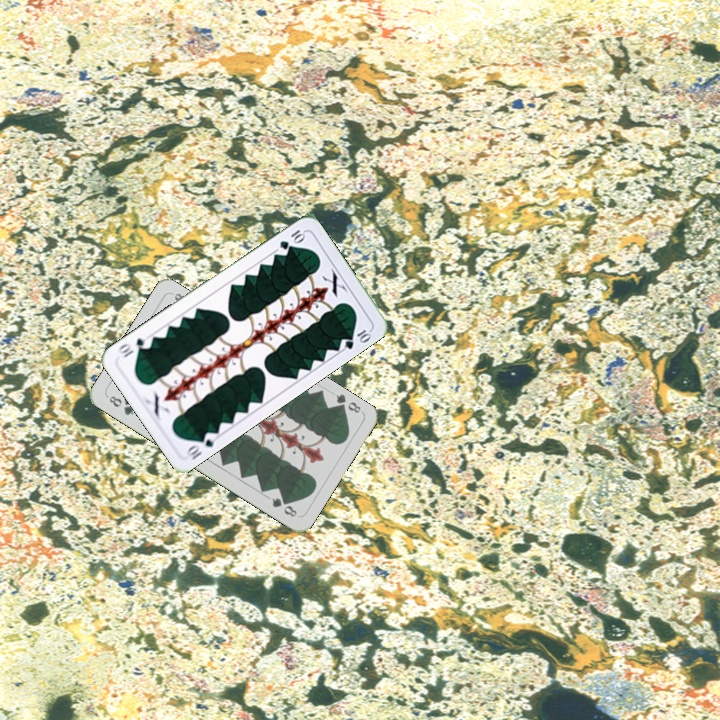G10: (182, 428, 217, 463), (275, 225, 308, 252)
G8: (103, 392, 136, 418), (331, 390, 363, 416)
